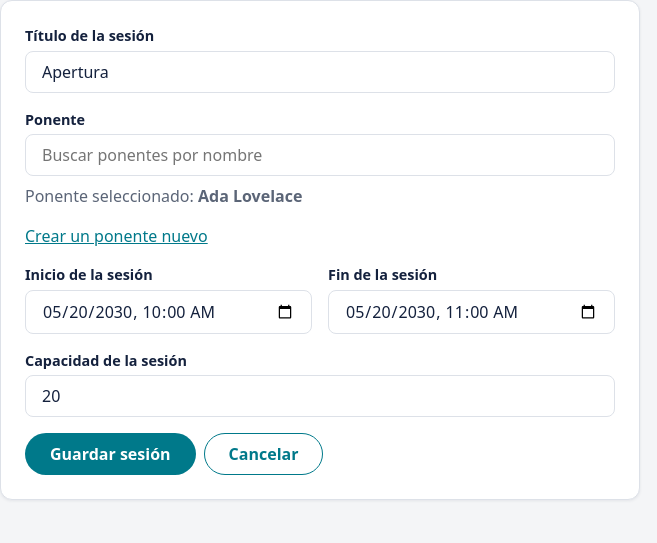
SessionForm › rejects a capacity above the event capacity
Replace the text in the number field labelled "Capacidad de la sesión" with "101" at (320, 396), box [25,375,615,417]
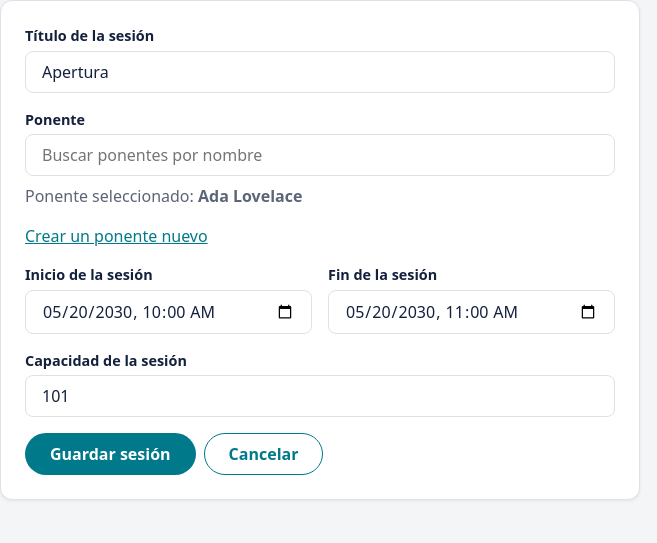
Click the button "Guardar sesión" at (110, 454), box [25,433,196,475]
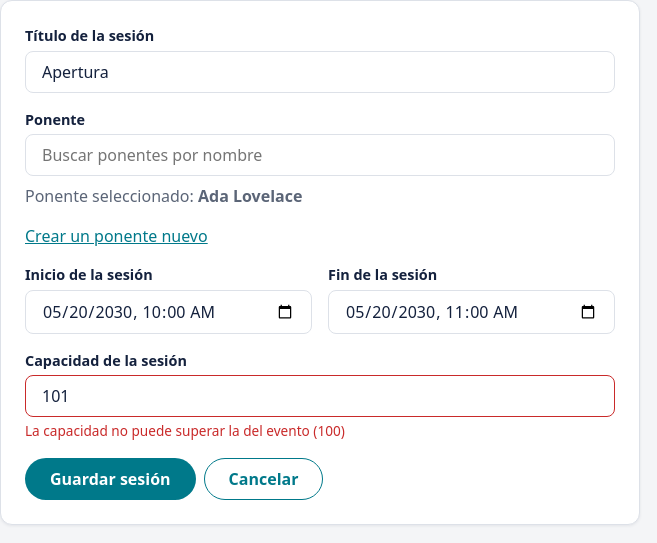
Expected: the text "La capacidad no puede superar la del evento (100)" is shown, [25,421,345,440]
